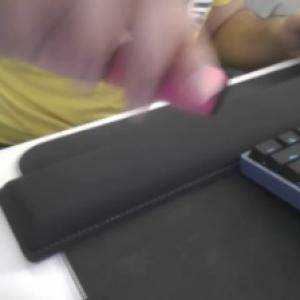Blume-E-Ciggirate: (110, 36, 229, 117)
